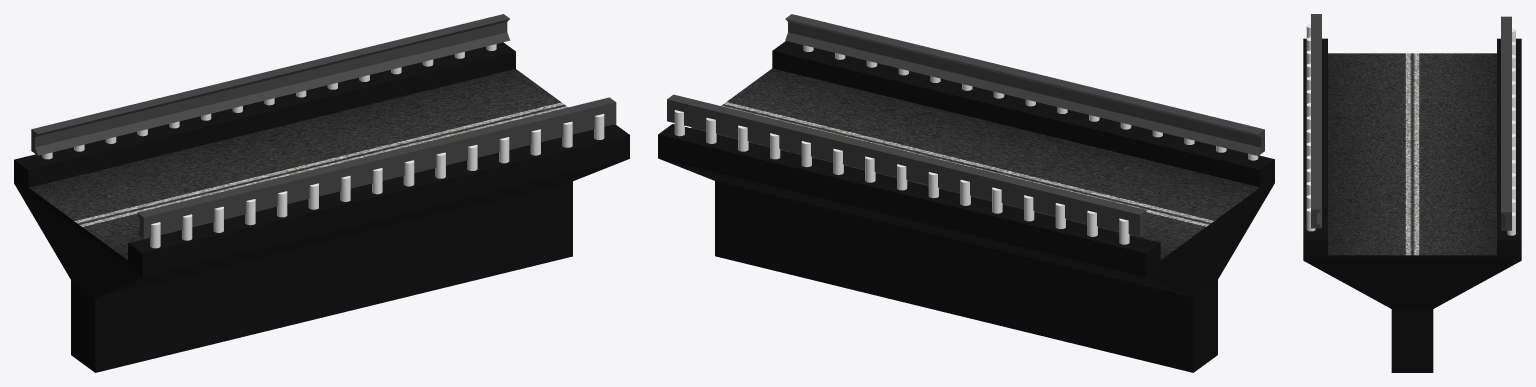
File: flyover.obj
The picture shows the model from 3 angles, left to right: view 1: azimuth 30°, elevation 25°; view 2: azimuth 150°, elevation 25°; view 3: azimuth 270°, elevation 25°; orthographic projection. The views are drawn at different scales.
Parts seen in each view (by area): view 1: Cube, Cube.002, Cube.001, Cylinder, Cylinder.001; view 2: Cube, Cube.001, Cube.002, Cylinder.001, Cylinder; view 3: Cube, Cube.001, Cube.002, Cylinder, Cylinder.001.
Part boxes in pixels (left/top/right/bottom): Cube: left=14, top=42, right=629, bottom=372; Cube.002: left=31, top=14, right=510, bottom=155; Cube.001: left=137, top=97, right=616, bottom=238; Cylinder: left=150, top=114, right=604, bottom=248; Cylinder.001: left=42, top=44, right=496, bottom=159; Cube: left=658, top=41, right=1274, bottom=372; Cube.001: left=785, top=14, right=1264, bottom=155; Cube.002: left=667, top=94, right=1146, bottom=236; Cylinder.001: left=674, top=110, right=1129, bottom=244; Cylinder: left=803, top=45, right=1258, bottom=160; Cube: left=1303, top=38, right=1521, bottom=372; Cube.001: left=1311, top=14, right=1321, bottom=228; Cube.002: left=1501, top=16, right=1511, bottom=230; Cylinder: left=1306, top=24, right=1315, bottom=231; Cylinder.001: left=1507, top=28, right=1515, bottom=235.
Bounding box in the file's own units: 13.57 × 5.06 × 6.2.
Materials: 4 (1 with a texture image).
